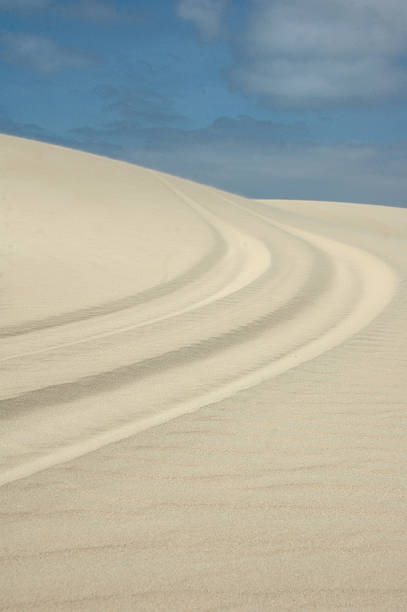vehicle_track: (1, 206, 395, 482), (0, 206, 226, 338)
